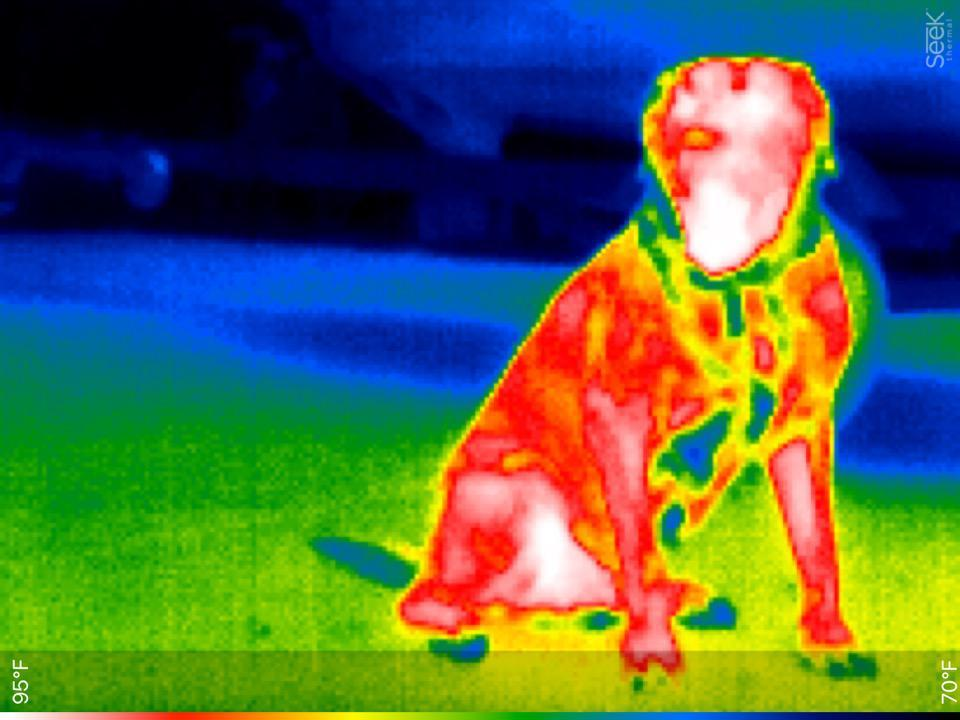dog: (387, 45, 889, 683)
